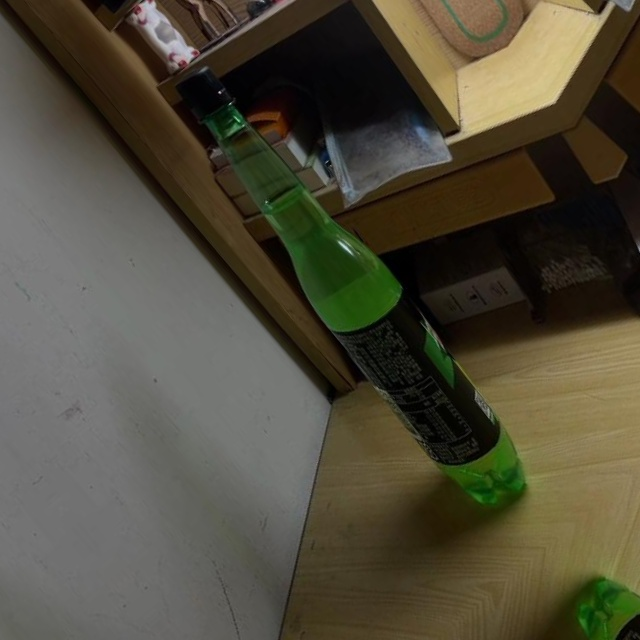Mountain-Dew: (140, 53, 556, 525)
